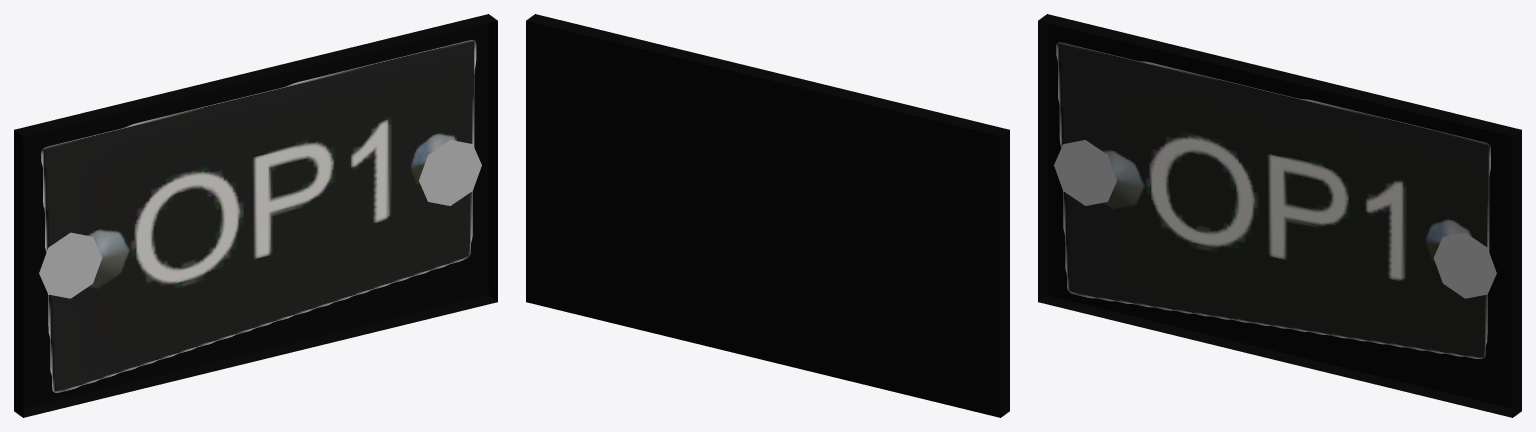
File: label.dae
The picture shows the model from 3 angles, left to right: view 1: azimuth 30°, elevation 25°; view 2: azimuth 150°, elevation 25°; view 3: azimuth 330°, elevation 25°; orthographic projection.
Visible parts, largest first — view 1: label (×4); view 2: label; view 3: label (×4).
Part boxes in pixels (bbox=[...]): label (×4): bbox=[14, 14, 497, 417]; label: bbox=[526, 14, 1009, 417]; label (×4): bbox=[1038, 14, 1521, 417].
Bounding box in the file's own units: 1.18 × 0.0394 × 0.6693.
